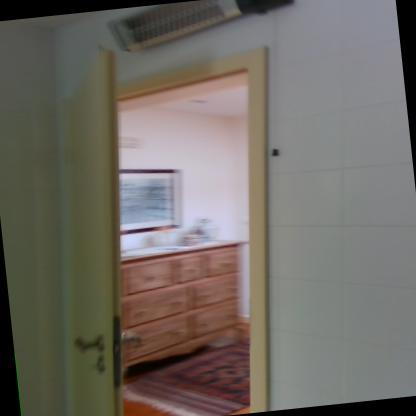semi: (32, 23, 320, 415)
